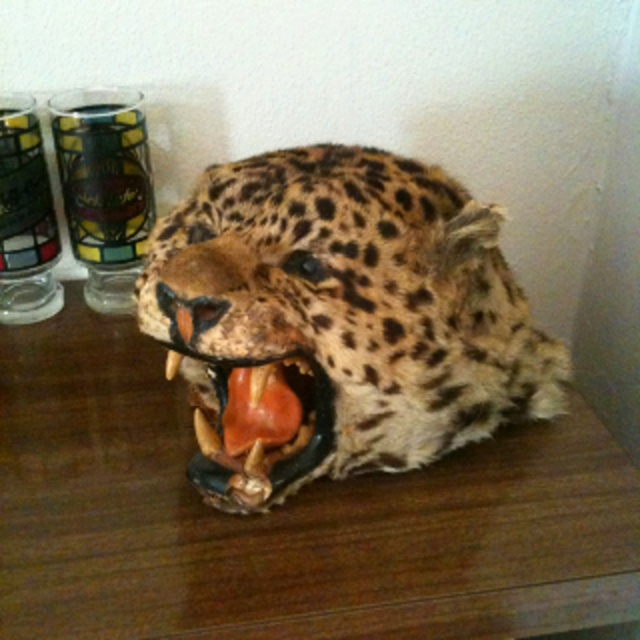Jaguar: (132, 144, 574, 516)
